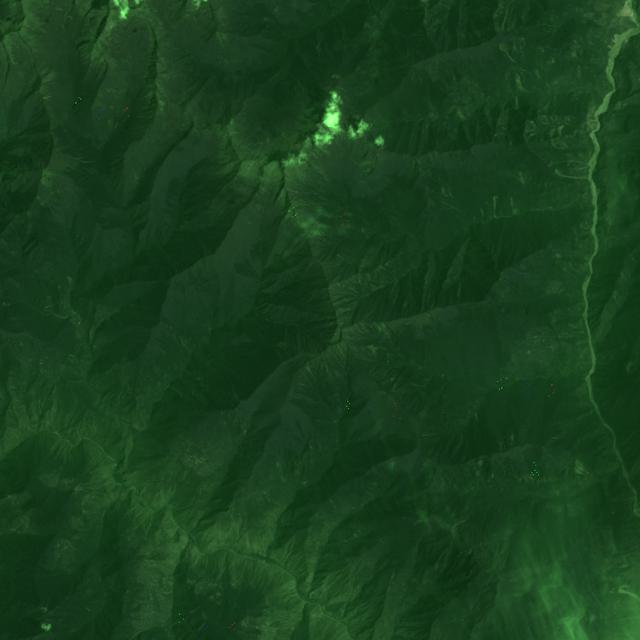landslides: (376, 322, 405, 358), (276, 462, 295, 491), (575, 460, 597, 484), (289, 464, 309, 485), (555, 169, 588, 181), (500, 43, 515, 64), (618, 589, 640, 603), (617, 0, 634, 17), (516, 73, 528, 96), (305, 362, 318, 382), (0, 237, 14, 255), (510, 198, 520, 216), (372, 482, 382, 495), (615, 290, 623, 305), (535, 69, 542, 86), (519, 171, 526, 187)
